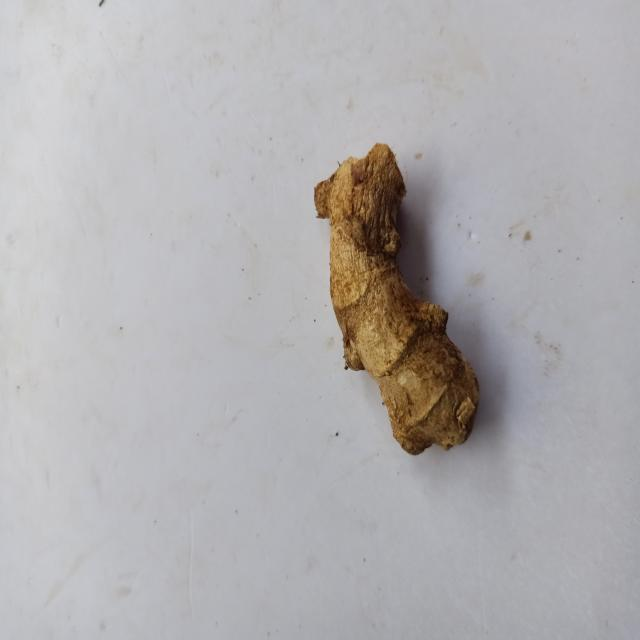Ginger: (315, 143, 480, 455)
